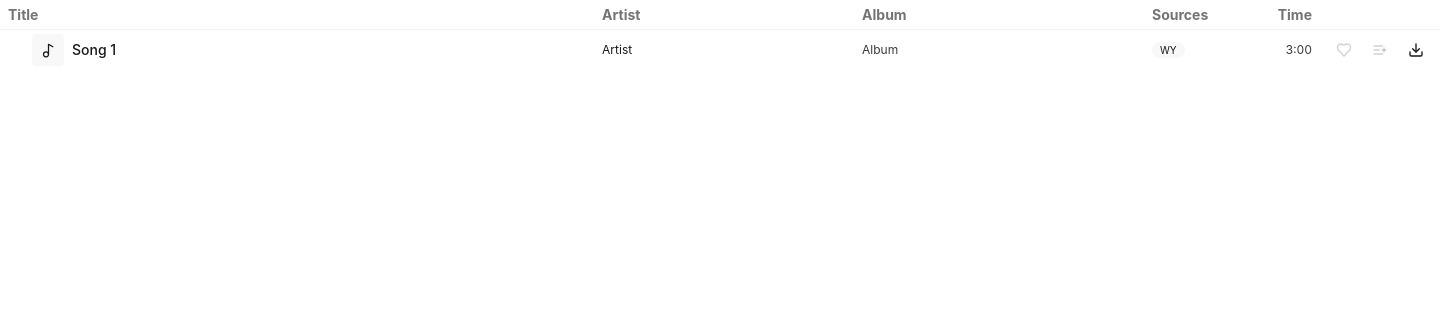
Test case: OnlineTrackTable › keeps the comments option visible but disabled without a supported source
Step 1. Right-click the row "Song 1 Artist Album WY 3:00" → coordinates (48, 50), box top-left (0, 30), bottom-right (1439, 70)
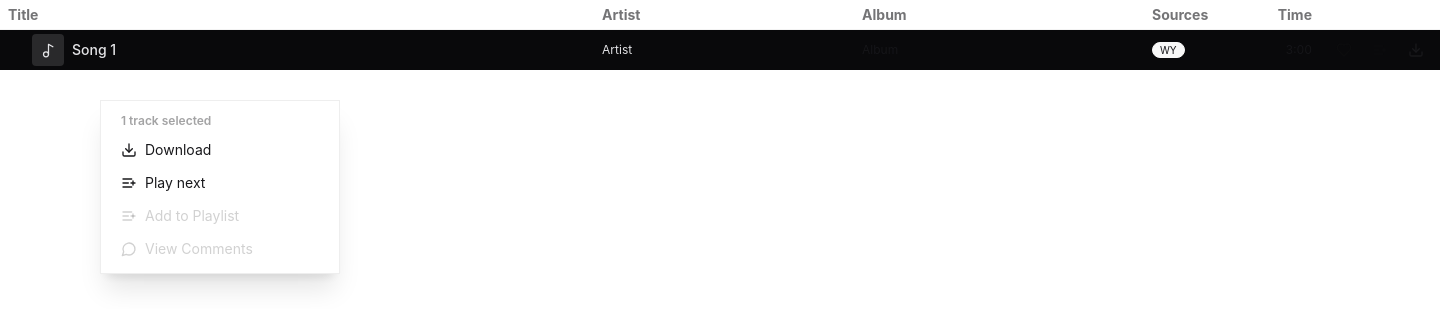
Expected: the button "View Comments" is disabled, top-left (109, 232), bottom-right (331, 265)
